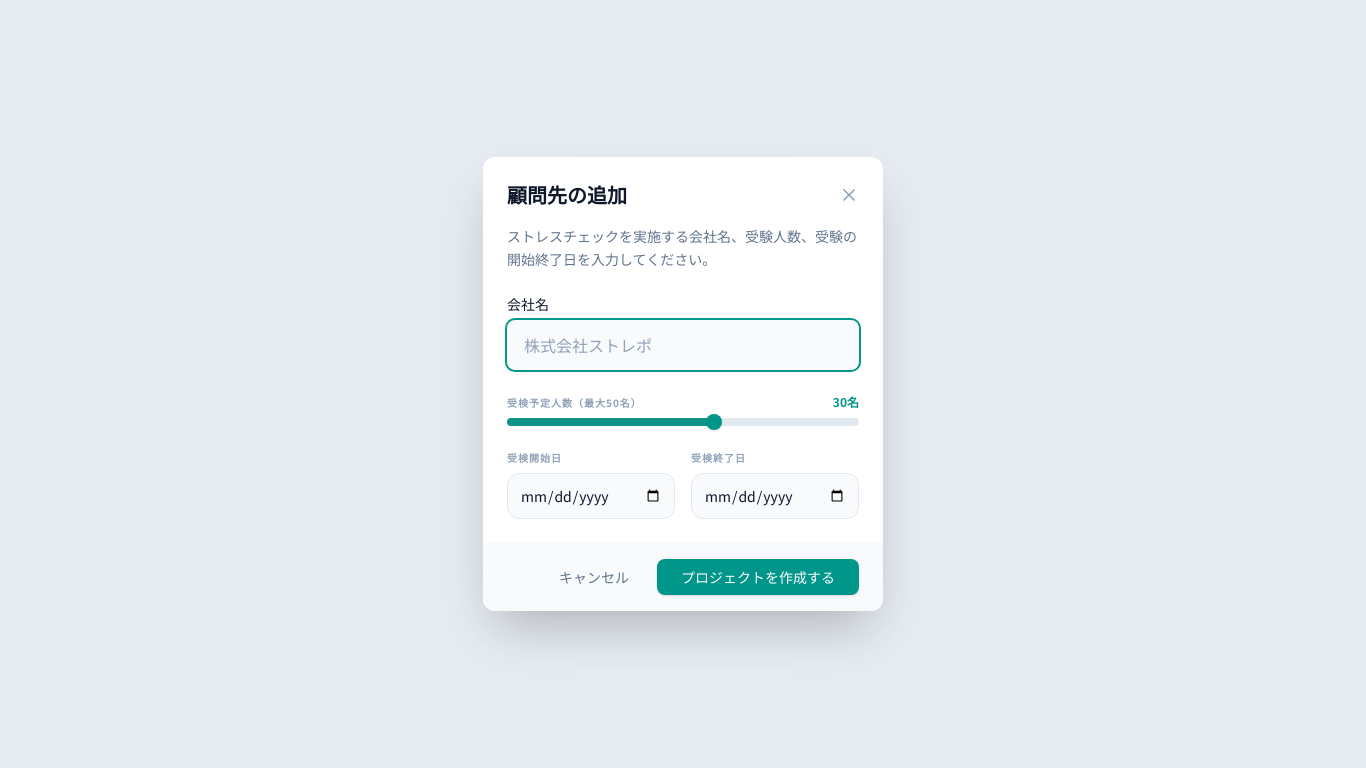
NewProjectModal - フォーム要素 › スライダーを動かすと人数表示が更新される
The image size is (1366, 768).
Set the slider labelled "受検予定人数（最大50名）" to "45": [817, 422] box [507,418,859,426]
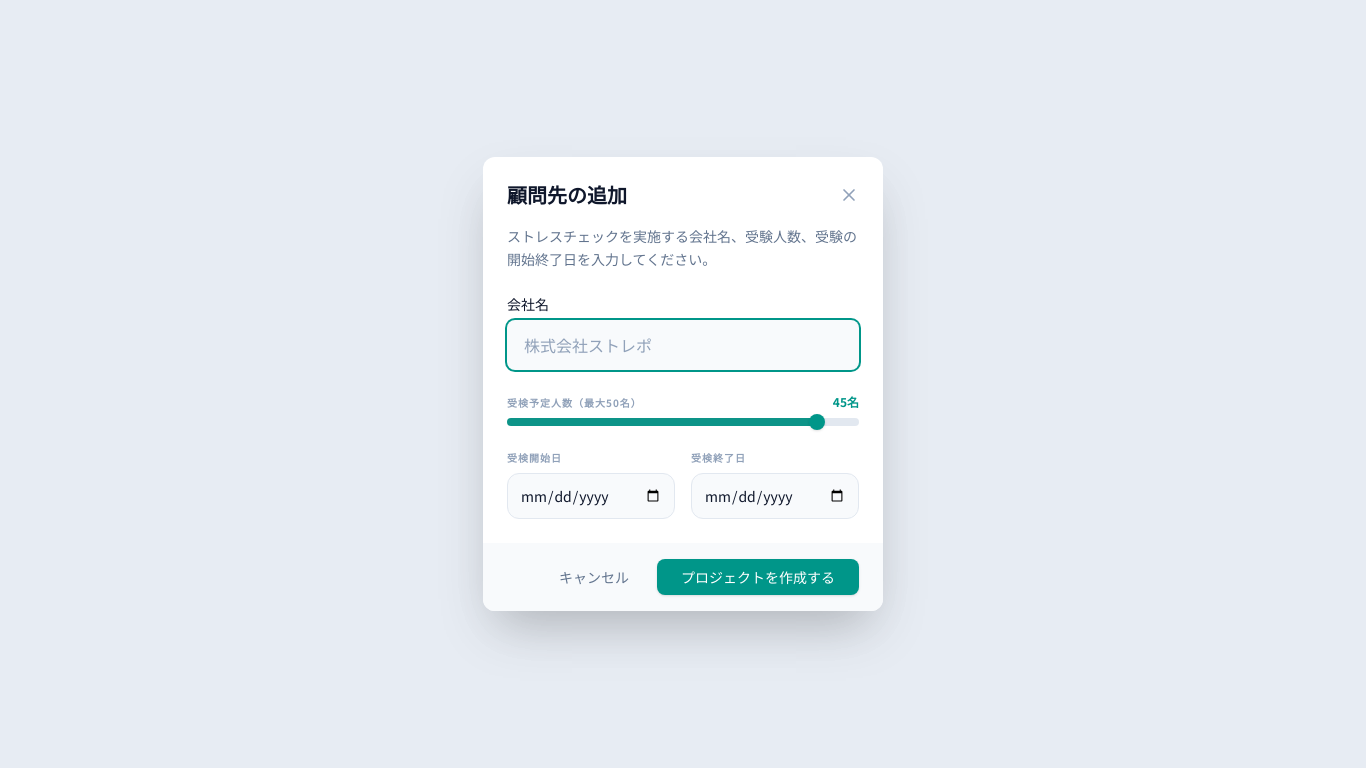
Now the text "45名" is shown, box [833,394,859,410]
